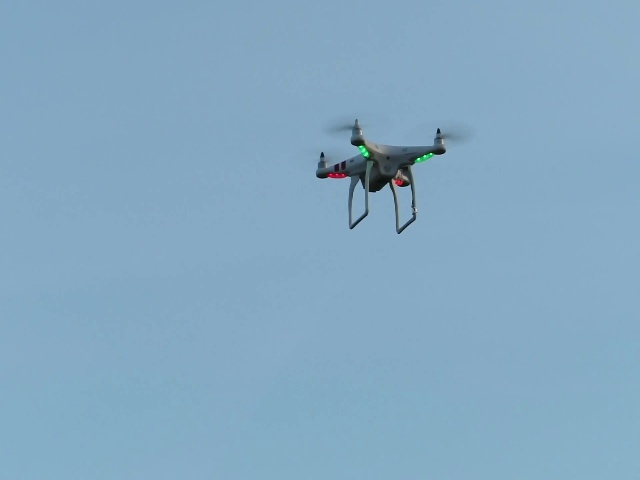drone: (308, 116, 470, 235)
